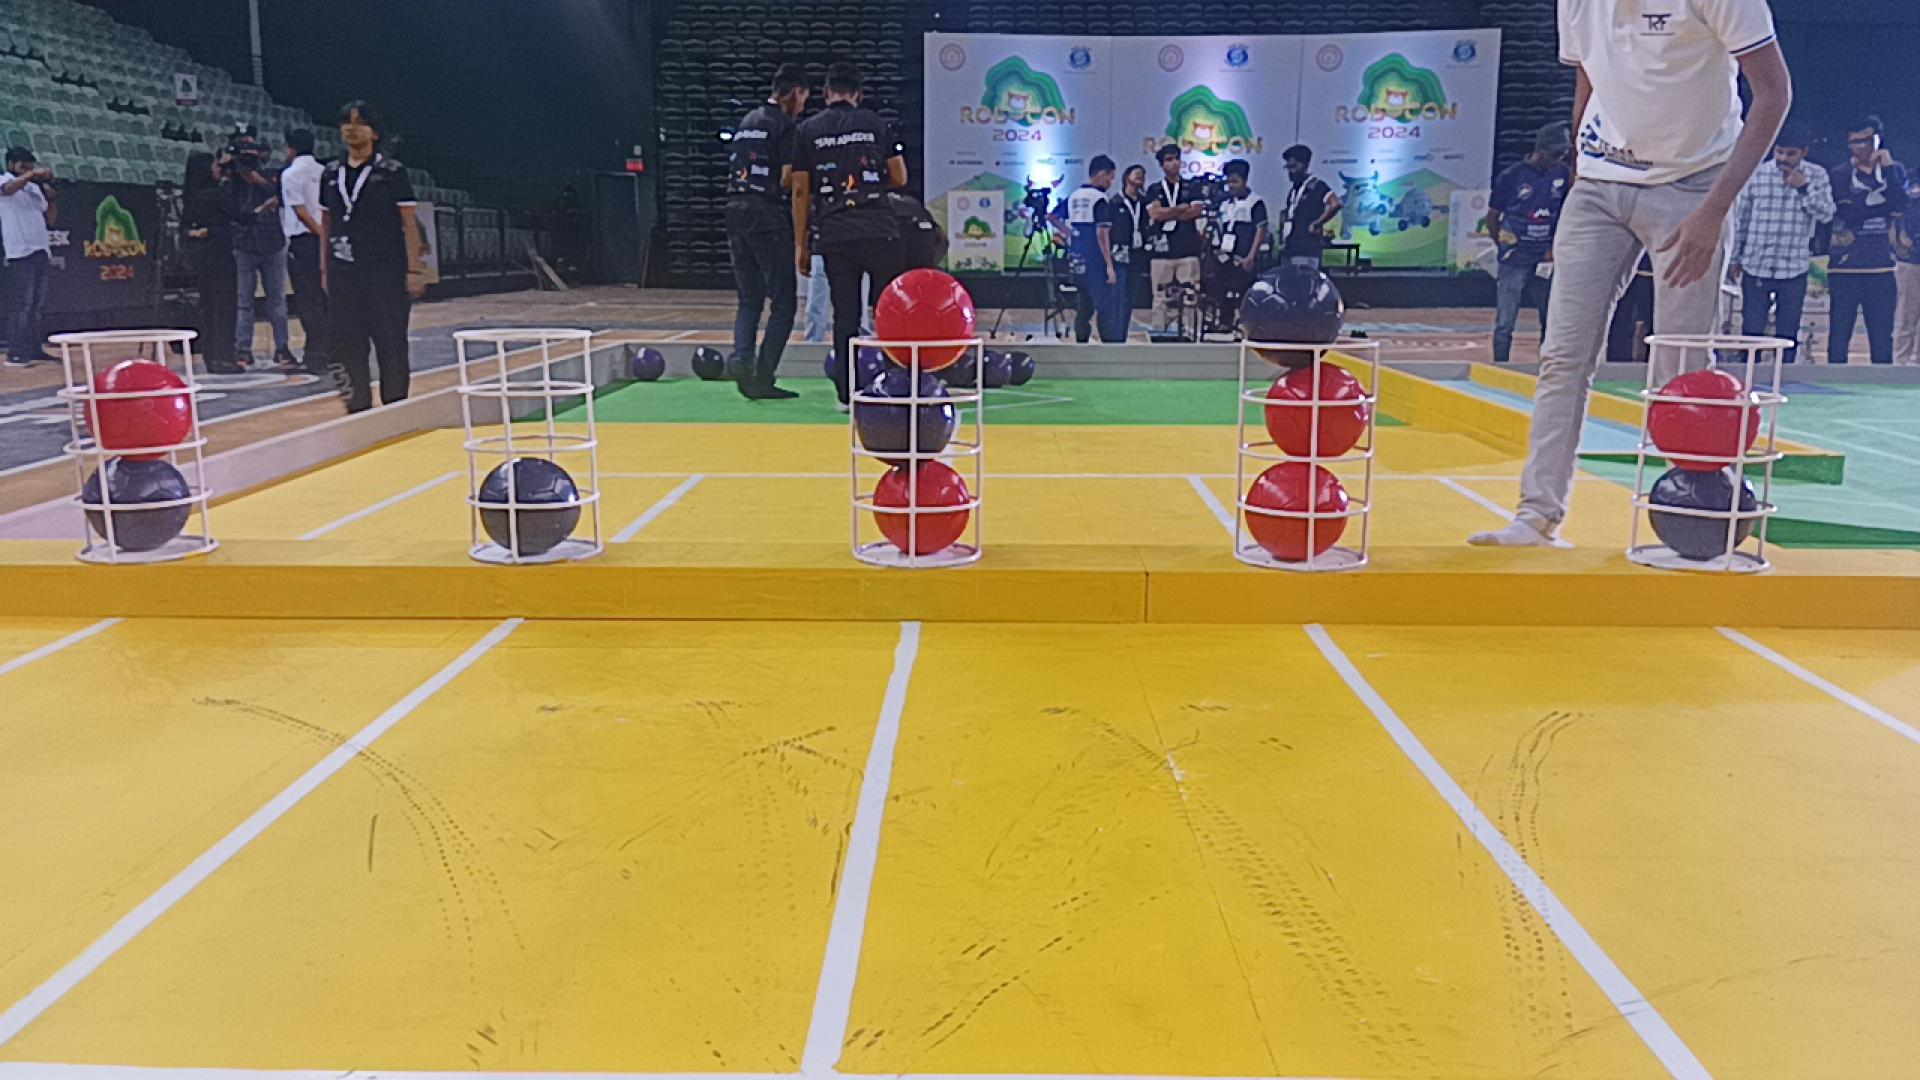dhoka: (1238, 260, 1344, 369), (1651, 467, 1760, 560), (82, 458, 190, 550), (479, 458, 580, 555), (852, 367, 953, 460)
laale: (1650, 367, 1758, 471), (1244, 460, 1349, 560), (1265, 361, 1370, 459), (876, 270, 973, 369), (83, 361, 191, 448), (872, 462, 969, 555)
